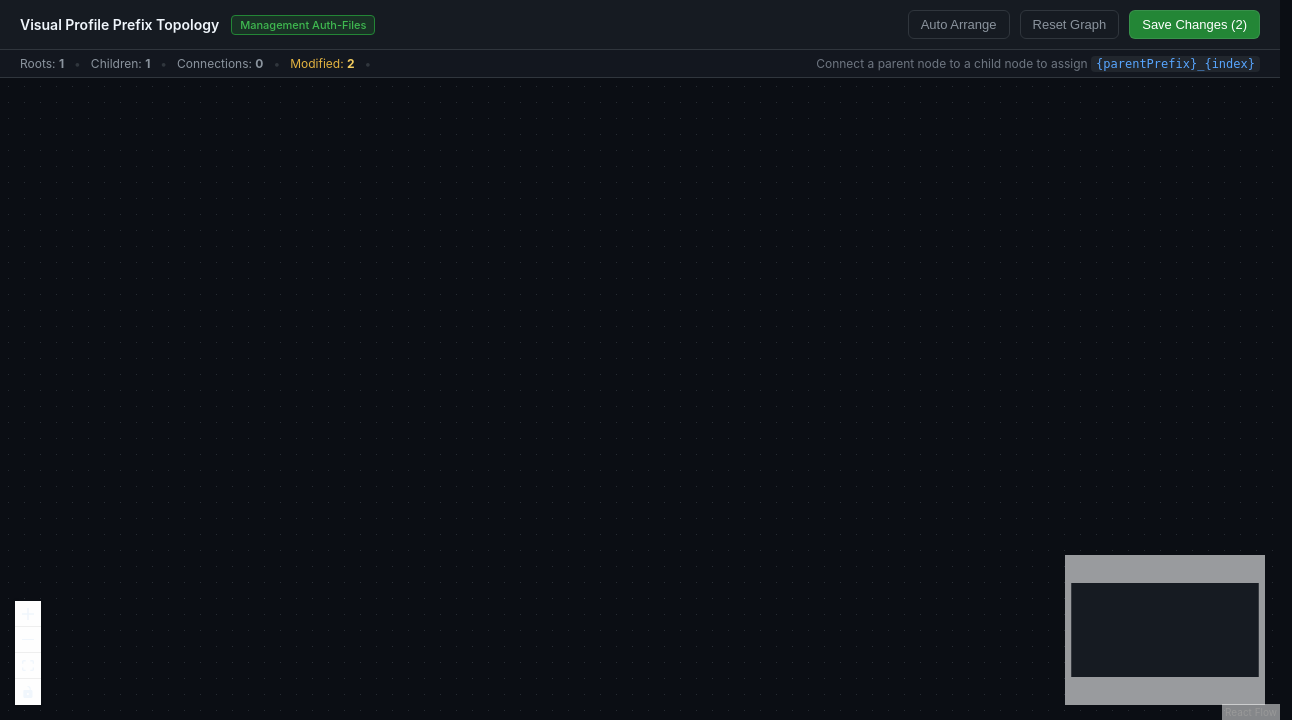
Test case: ProfileGraph Component and onConnect Integration › VP-4 Explicit Save Changes, PATCH, Reconciliation, and Partial Failure › handles multi-file partial failure without claiming atomicity and allows retry
Trigger Save Changes
Click the button with test id "btn-save-changes" at (1195, 24), box [1129,10,1260,39]
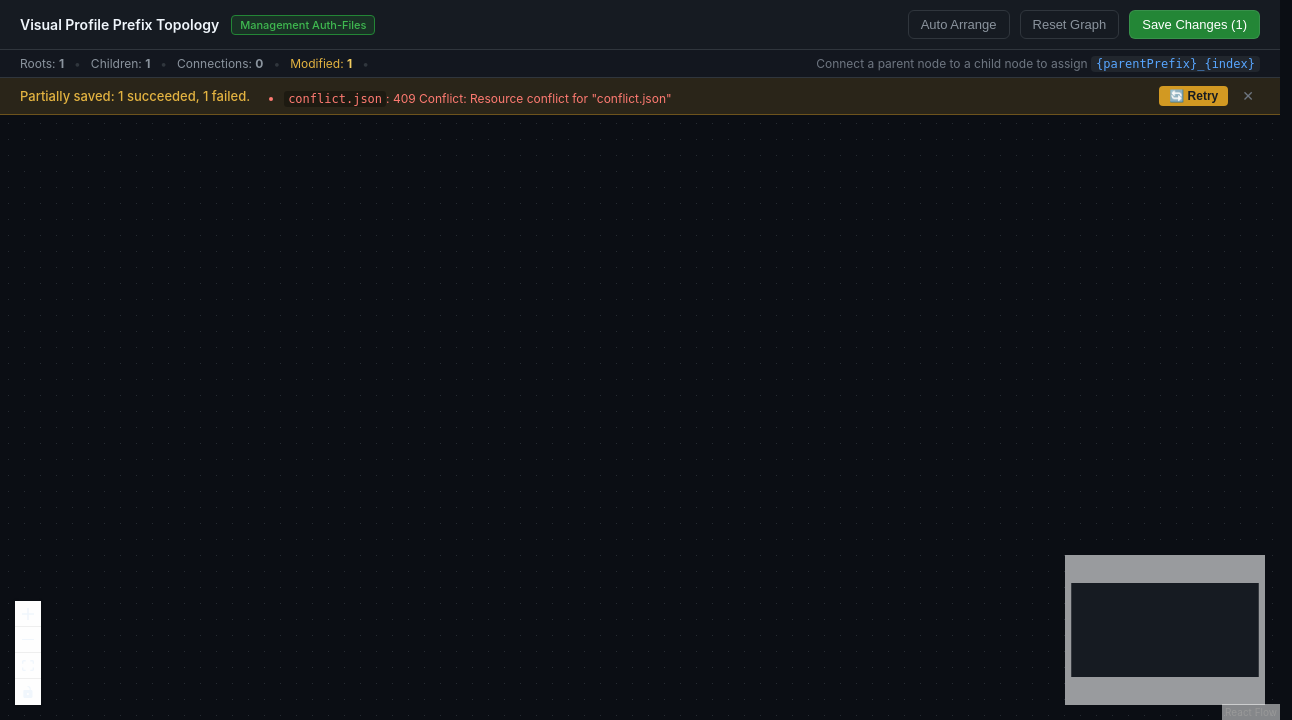
expect the element with test id "save-status-partial" is shown: met, box [0,78,1280,115]
expect the text "Partially saved: 1 succeeded, 1 failed." is shown: met, box [20,88,250,104]
expect the list item with test id "save-failure-conflict.json" is shown: met, box [284,90,672,106]
Click Retry
Click the button with test id "btn-retry-save" at (1194, 96), box [1159,86,1228,106]
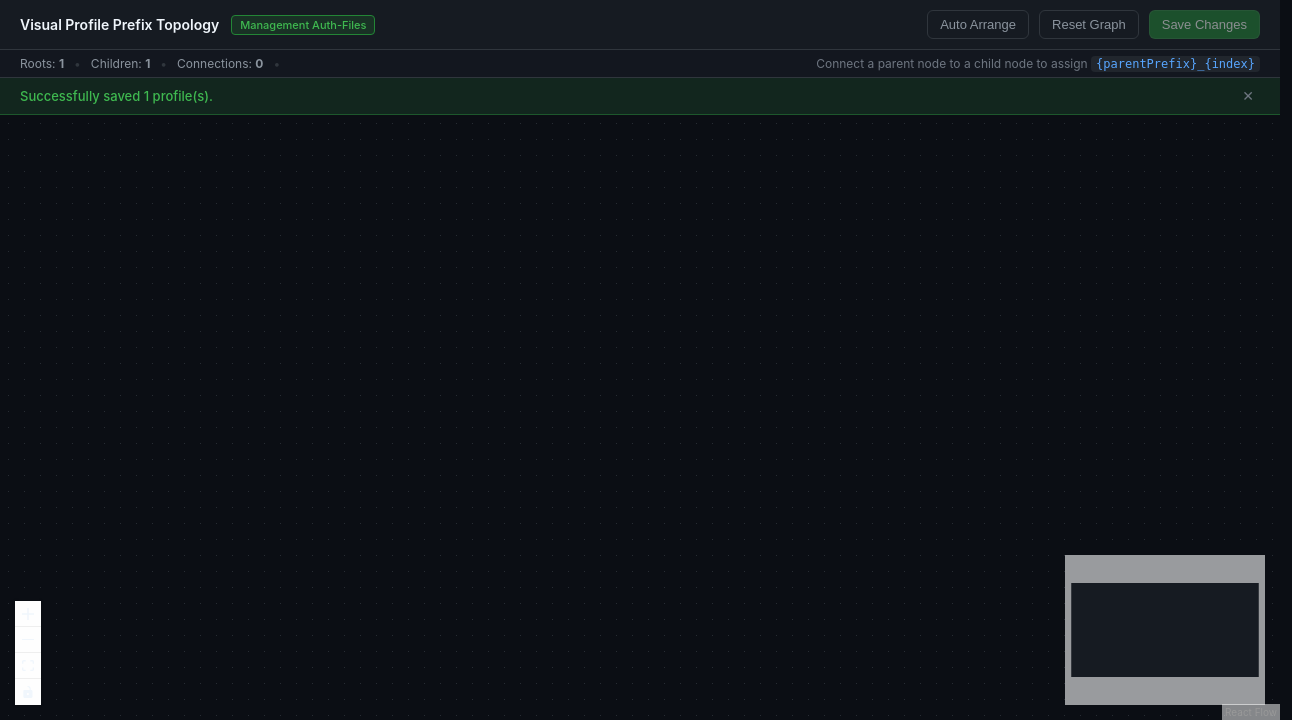
expect the element with test id "save-status-success" is shown: met, box [0,78,1280,115]
